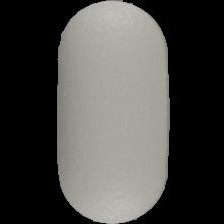54868-4474: (0, 0, 224, 224)
